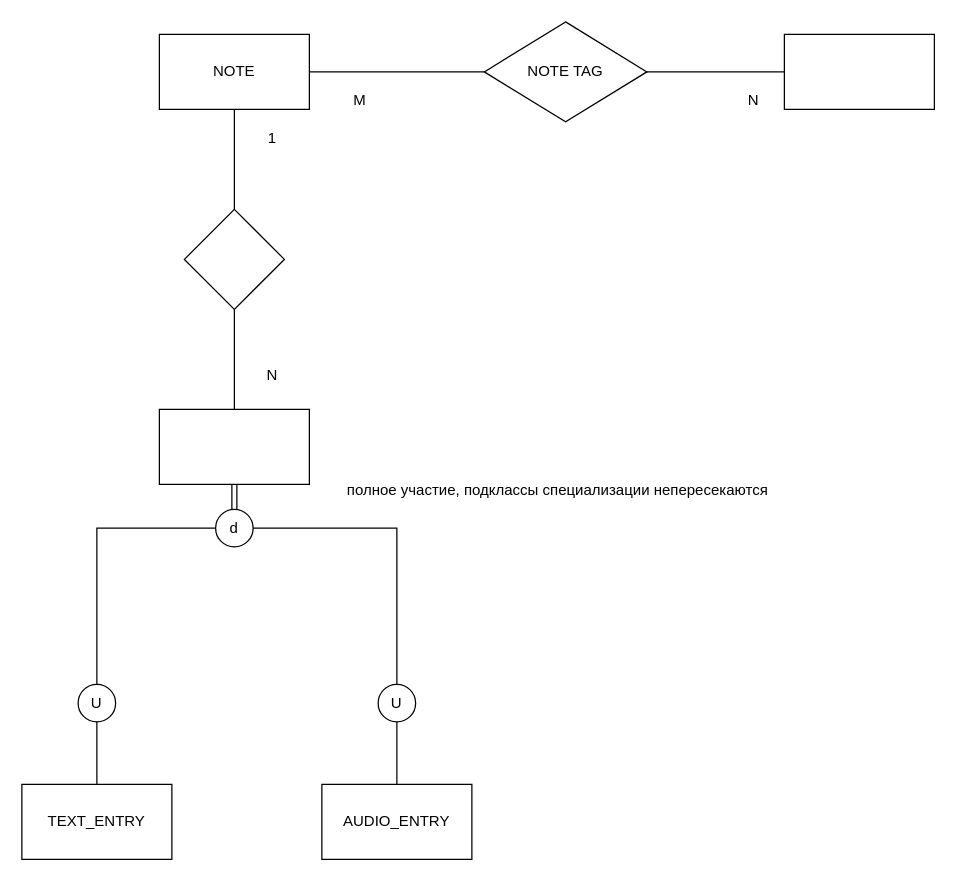
Some shapes in this 956 by 881 pixel diagram are drawn without their labels. The shapes that lost their labels are listed below. From the top down, each one's centre as x and y in pixels, then its label:
pixel 858 71: TAG
pixel 233 258: NOTE ENTRY
pixel 233 446: ENTRY
